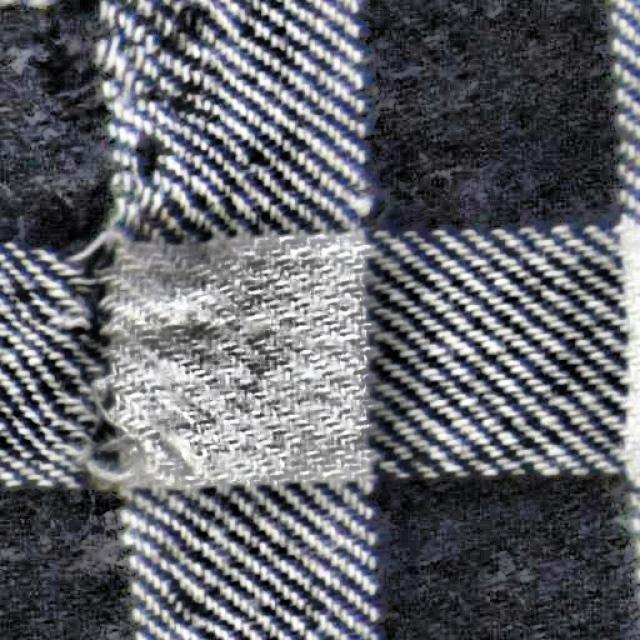cut: (22, 21, 188, 211)
gray stitch: (27, 231, 177, 502)
